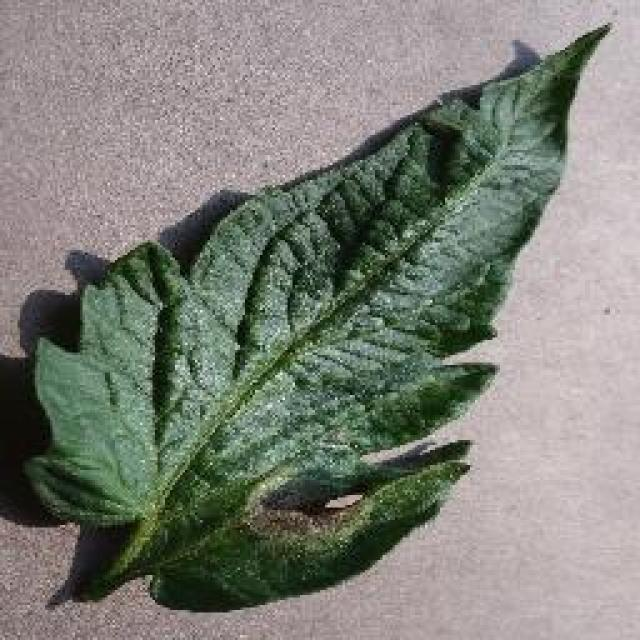Tomato Late Blight: (207, 432, 425, 566)
